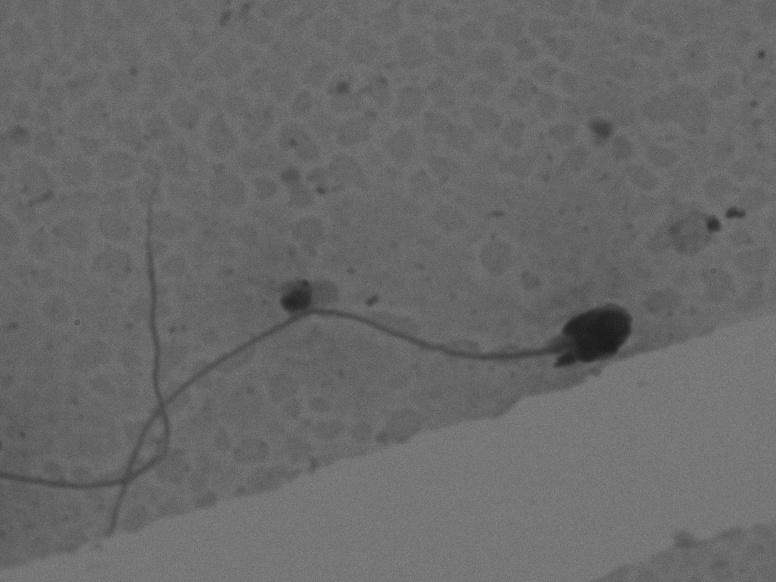Abnormal: (51, 263, 650, 508)
